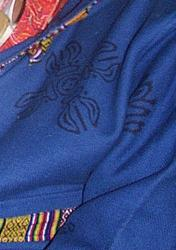person: (0, 0, 176, 248)
